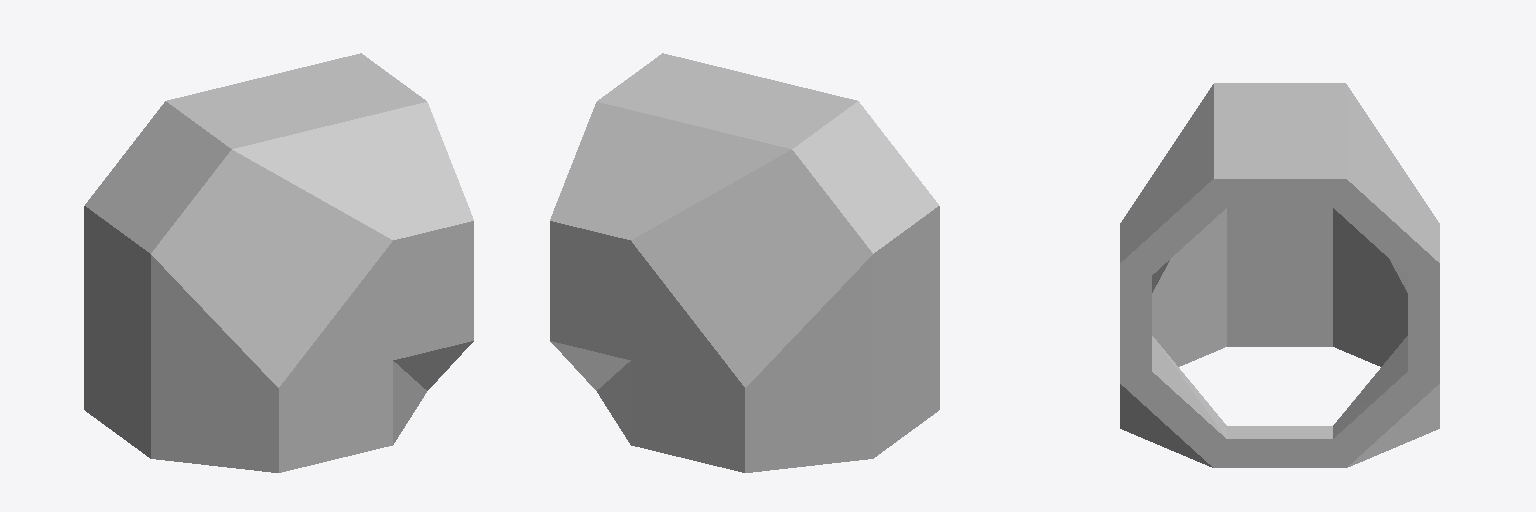
File: corner.obj
3 views of the same model, side by side, from view 1: azimuth 30°, elevation 25°; view 2: azimuth 150°, elevation 25°; view 3: azimuth 270°, elevation 25° (orthographic).
Parts seen in each view (by area): view 1: Cylinder.002_Cylinder.004; view 2: Cylinder.002_Cylinder.004; view 3: Cylinder.002_Cylinder.004.
Boxes of the visible parts, <box> form: Cylinder.002_Cylinder.004: <box>84,53,473,472</box>; Cylinder.002_Cylinder.004: <box>550,53,939,472</box>; Cylinder.002_Cylinder.004: <box>1120,83,1439,467</box>.
Size of the model in its own units: 1 by 1 by 1.